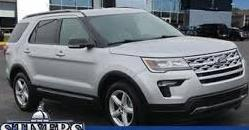SUV: (7, 9, 248, 127)
